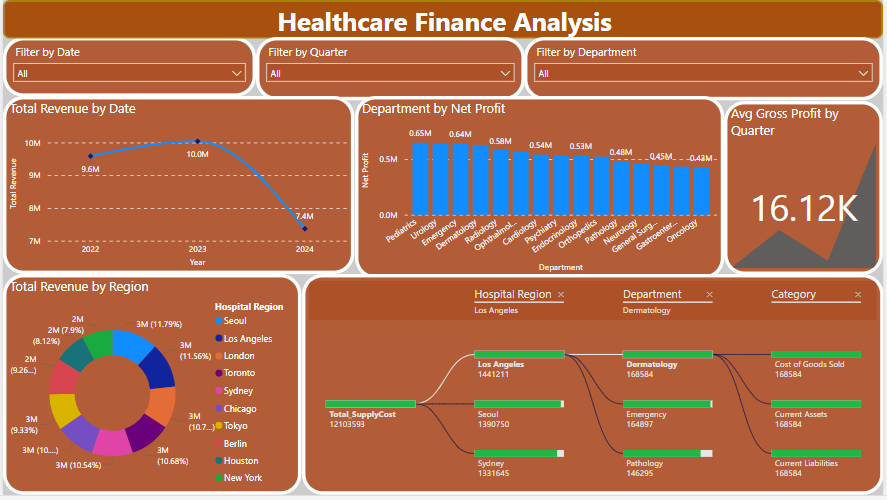

The page's visual inventory and layout, read from the dashboard file:
{"tool":"powerbi","page":{"name":"Executive Summary","canvas":[1280,720],"ordinal":0},"visuals":[{"type":"slicer","fields":{"Values":["HospitalFinance.Date"]},"box":[0,53.9,367.6,86.6],"z":3000},{"type":"textbox","title":"Healthcare Finance Analysis","box":[0,0,1280,56],"z":9000},{"type":"slicer","fields":{"Values":["HospitalFinance.Department"]},"box":[758.4,53.9,521.6,92.4],"z":11002},{"type":"slicer","fields":{"Values":["DateTable.Quarter"]},"box":[367.6,53.9,390.7,92.4],"z":11003},{"type":"lineChart","title":"Total Revenue by Date","fields":{"Y":["AccountCategories.Total_Revenue"],"Category":["DateTable.Date.Variation.Date Hierarchy.Year"]},"box":[0,140,511.4,258.6],"z":11004},{"type":"clusteredColumnChart","title":"Department by Net Profit","fields":{"Category":["HospitalFinance.Department"],"Y":["DateTable.Net_Profit"]},"box":[511.4,140,537.1,265.7],"z":11005},{"type":"donutChart","title":"Total Revenue by Region","fields":{"Y":["AccountCategories.Total_Revenue"],"Category":["HospitalFinance.Hospital Region"]},"box":[0,398.6,434.3,321.4],"z":11006},{"type":"decompositionTreeVisual","title":"Total Revenue by Region","fields":{"ExplainBy":["HospitalFinance.Hospital Region","HospitalFinance.Department","AccountCategories.Category"],"Analyze":["DateTable.Total_SupplyCost"]},"box":[434.3,398.6,845.7,321.4],"z":11007},{"type":"kpi","title":"Avg Gross Profit by Quarter","fields":{"Indicator":["Avg(HospitalFinance.Gross Profit)"],"TrendLine":["DateTable.Quarter"]},"box":[1048.6,147.1,231.4,252.9],"z":11008}]}

Visuals, with their boxes in screenshot pixels (x1, y1, x2, y2), scaled from the page's 1280x720 canvas onto the 887x500 screenshot:
slicer - HospitalFinance.Date: [0, 37, 255, 98]
"Healthcare Finance Analysis" textbox: [0, 0, 886, 39]
slicer - HospitalFinance.Department: [526, 37, 886, 102]
slicer - DateTable.Quarter: [255, 37, 525, 102]
"Total Revenue by Date" lineChart: [0, 97, 354, 277]
"Department by Net Profit" clusteredColumnChart: [354, 97, 727, 282]
"Total Revenue by Region" donutChart: [0, 277, 301, 499]
"Total Revenue by Region" decompositionTreeVisual: [301, 277, 886, 499]
"Avg Gross Profit by Quarter" kpi: [727, 102, 886, 278]
